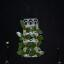leaf: (16, 50, 26, 56), (20, 20, 25, 30), (16, 32, 24, 38), (18, 48, 25, 54), (29, 32, 36, 38), (18, 43, 26, 48), (37, 51, 45, 55), (36, 36, 44, 40), (31, 47, 36, 53), (30, 26, 36, 31), (36, 30, 43, 34), (25, 35, 31, 39), (26, 42, 32, 46), (26, 48, 30, 54), (30, 52, 36, 56), (26, 27, 30, 32), (37, 41, 42, 45), (19, 37, 25, 40), (37, 53, 41, 57), (31, 44, 36, 47), (26, 30, 33, 32), (37, 43, 40, 47), (34, 26, 37, 30)
